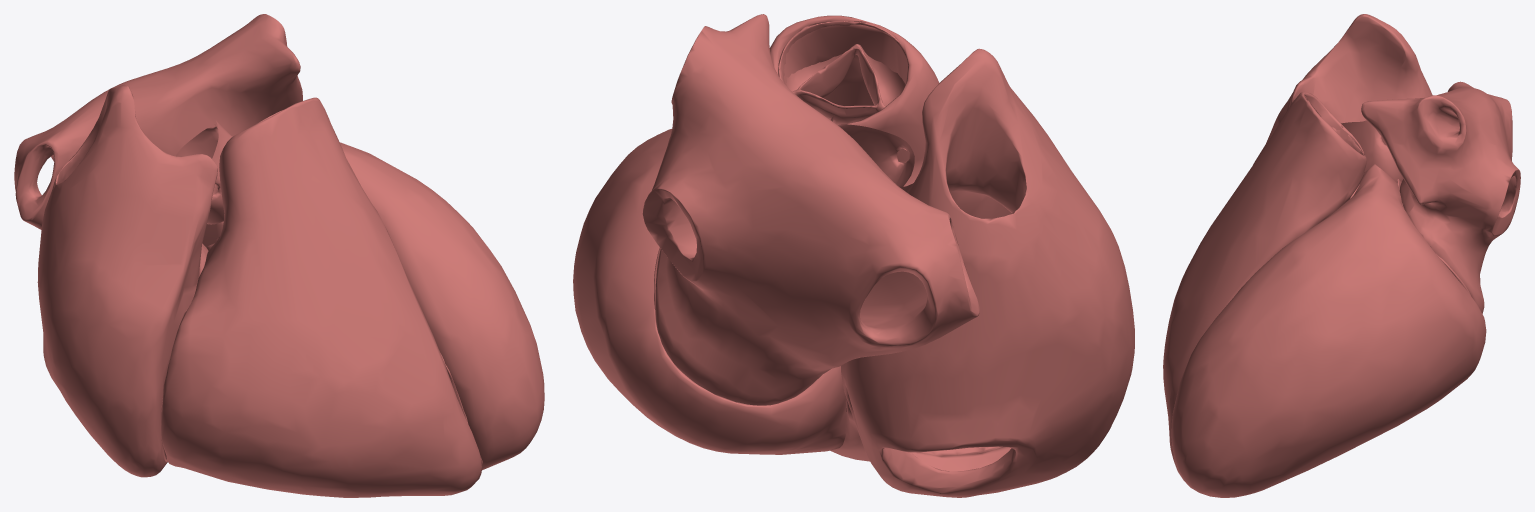
Rendered from heart.glb.
3 views of the same model, side by side, from view 1: azimuth 30°, elevation 25°; view 2: azimuth 150°, elevation 25°; view 3: azimuth 270°, elevation 25° (orthographic). The views are drawn at different scales.
Parts seen in each view (by area): view 1: VH_M_heart_right_ventricle, VH_M_right_cardiac_atrium, VH_M_heart_left_ventricle, VH_M_left_cardiac_atrium, VH_M_aortic_valve; view 2: VH_M_left_cardiac_atrium, VH_M_right_cardiac_atrium, VH_M_heart_left_ventricle, VH_M_heart_right_ventricle, VH_M_pulmonary_valve, VH_M_aortic_valve; view 3: VH_M_heart_left_ventricle, VH_M_heart_right_ventricle, VH_M_left_cardiac_atrium, VH_M_right_cardiac_atrium, VH_M_aortic_valve.
Part boxes in pixels (x1,y1,x2,y2): VH_M_heart_right_ventricle: (161, 97, 482, 497); VH_M_right_cardiac_atrium: (37, 84, 217, 477); VH_M_heart_left_ventricle: (202, 142, 544, 470); VH_M_left_cardiac_atrium: (14, 14, 302, 229); VH_M_aortic_valve: (176, 120, 232, 224); VH_M_left_cardiac_atrium: (642, 14, 979, 405); VH_M_right_cardiac_atrium: (841, 48, 1134, 497); VH_M_heart_left_ventricle: (573, 129, 846, 454); VH_M_heart_right_ventricle: (770, 15, 939, 461); VH_M_pulmonary_valve: (778, 21, 905, 124); VH_M_aortic_valve: (831, 115, 914, 192); VH_M_heart_left_ventricle: (1171, 164, 1486, 497); VH_M_heart_right_ventricle: (1163, 92, 1366, 478); VH_M_left_cardiac_atrium: (1361, 81, 1520, 313); VH_M_right_cardiac_atrium: (1253, 14, 1432, 164); VH_M_aortic_valve: (1341, 120, 1403, 182).
Size of the model in its own units: 0.1179 by 0.1054 by 0.0926.
